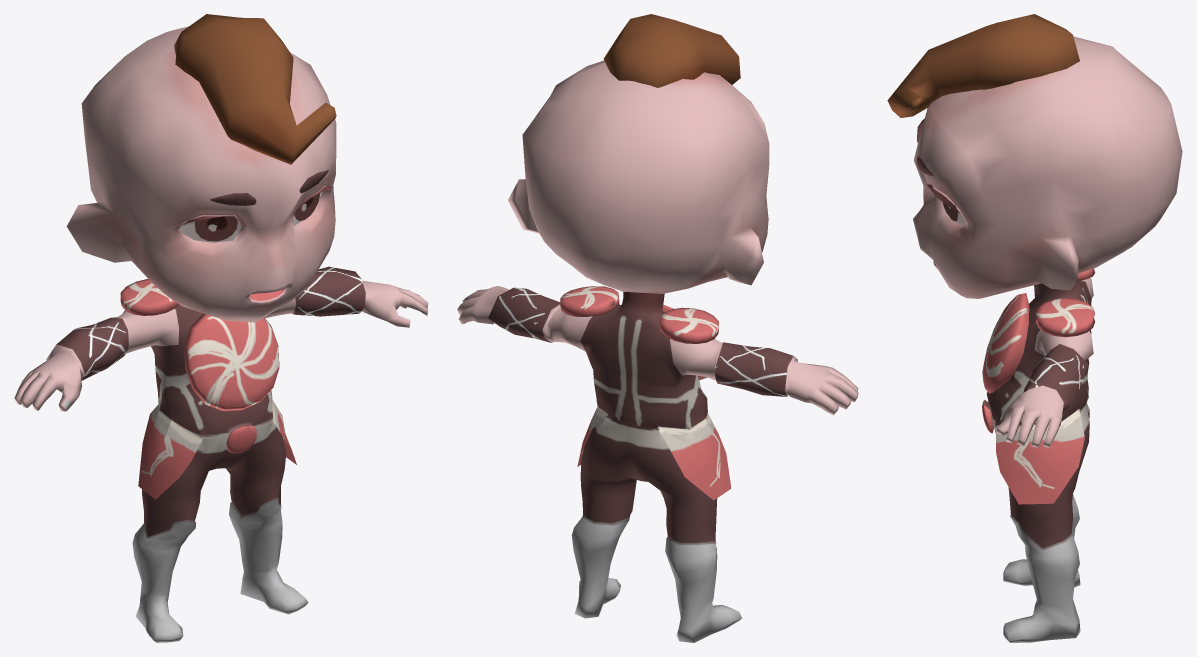
Rendered from Main_Boy.fbx.
3 renders of one model, left to right at view 1: azimuth 30°, elevation 25°; view 2: azimuth 150°, elevation 25°; view 3: azimuth 270°, elevation 25°, orthographic. The views are drawn at different scales.
Parts seen in each view (by area): view 1: Face_Geo, Body_Geo, Hair_Geo, Iris_R_Geo, Eyebrow_Geo; view 2: Body_Geo, Face_Geo, Hair_Geo; view 3: Face_Geo, Body_Geo, Hair_Geo.
Part boxes in pixels (x1,y1,x2,y2): Face_Geo: (66, 26, 336, 322); Body_Geo: (14, 266, 428, 642); Hair_Geo: (174, 14, 336, 164); Iris_R_Geo: (194, 216, 237, 241); Eyebrow_Geo: (210, 170, 329, 205); Body_Geo: (457, 286, 858, 642); Face_Geo: (508, 60, 769, 293); Hair_Geo: (603, 14, 740, 87); Face_Geo: (913, 36, 1182, 298); Body_Geo: (982, 268, 1094, 642); Hair_Geo: (887, 14, 1079, 117).
Size of the model in its own units: 102 by 144 by 65.07.
Materials: 1 (1 with a texture image).
